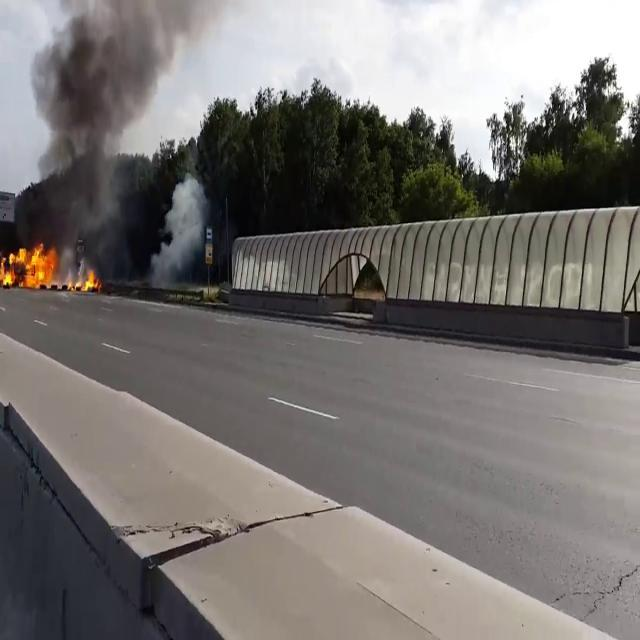Fire: (0, 238, 60, 288), (65, 266, 99, 294)
Smoke: (17, 0, 171, 246), (155, 165, 211, 282)
